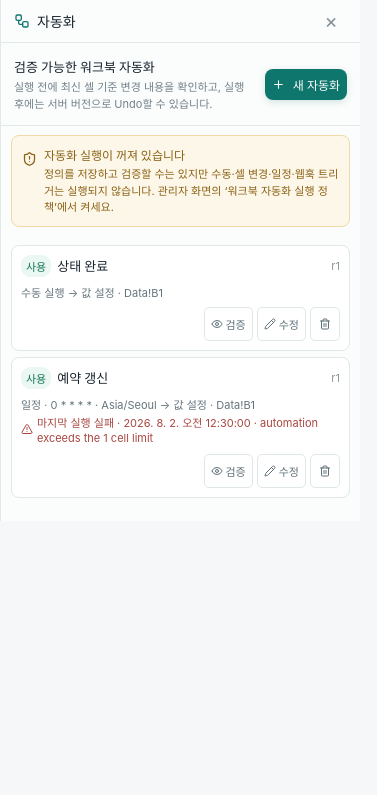
Test: AutomationPanel › says that execution is switched off and refuses to offer the run button
expect the text "자동화 실행이 꺼져 있습니다" is shown: met, box [44,148,185,163]
expect the text "마지막 실행 실패" shows "1 cell limit": met, box [37,416,318,445]
Click the button "검증" below "수동 실행" at [228, 324], box [204,306,253,340]
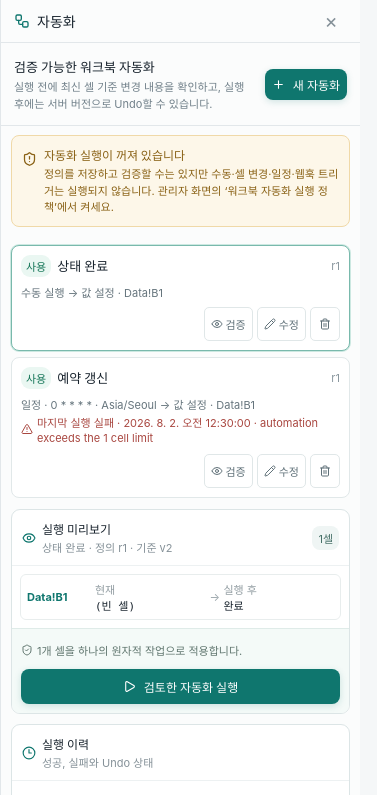
expect the text "실행 미리보기" is shown: met, box [42,522,111,537]
expect the button "검토한 자동화 실행" is disabled: met, box [21,669,340,704]
